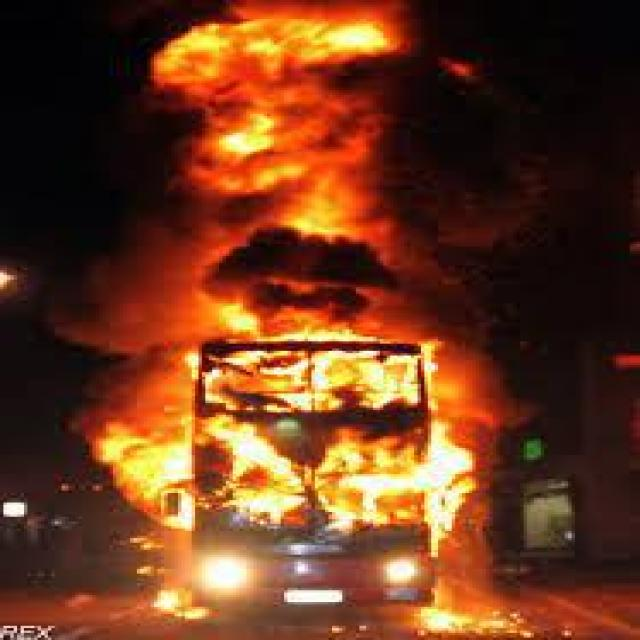fire: (58, 0, 510, 533), (410, 594, 519, 634), (146, 585, 212, 626)
other: (196, 550, 255, 590), (275, 586, 348, 603), (376, 555, 420, 582)
